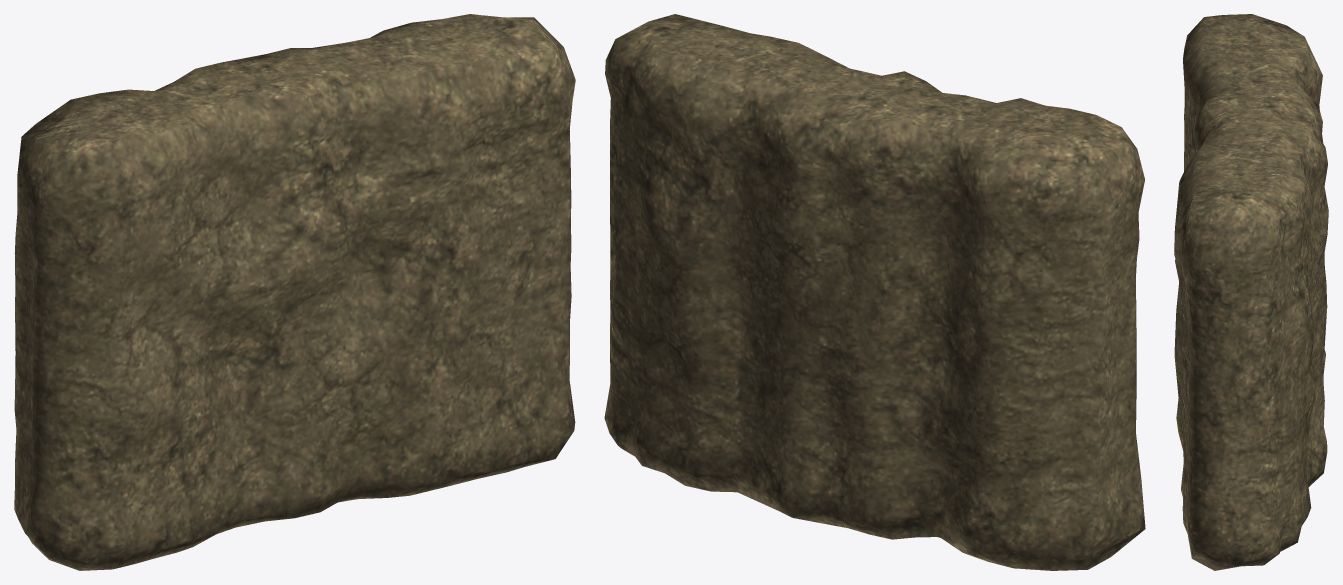
Rendered from CaveWalls1_C.obj.
The picture shows the model from 3 angles, left to right: view 1: azimuth 30°, elevation 25°; view 2: azimuth 150°, elevation 25°; view 3: azimuth 270°, elevation 25°; orthographic projection. The views are drawn at different scales.
Visible parts, largest first — view 1: CaveWalls1C; view 2: CaveWalls1C; view 3: CaveWalls1C.
Part boxes in pixels (x1,y1,x2,y2): CaveWalls1C: (14,14,575,570); CaveWalls1C: (604,14,1145,570); CaveWalls1C: (1174,14,1328,570).
Size of the model in its own units: 43.44 by 33.17 by 12.82.
1 material, 1 textured.
